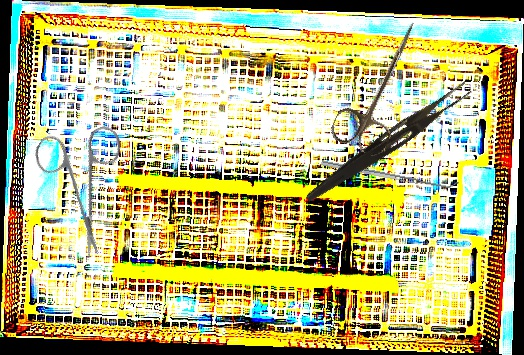Dressing Forceps: (303, 75, 473, 211)
Iris Scissors: (2, 99, 163, 261), (327, 10, 437, 160)
Spatula Surgical: (320, 155, 460, 192)
